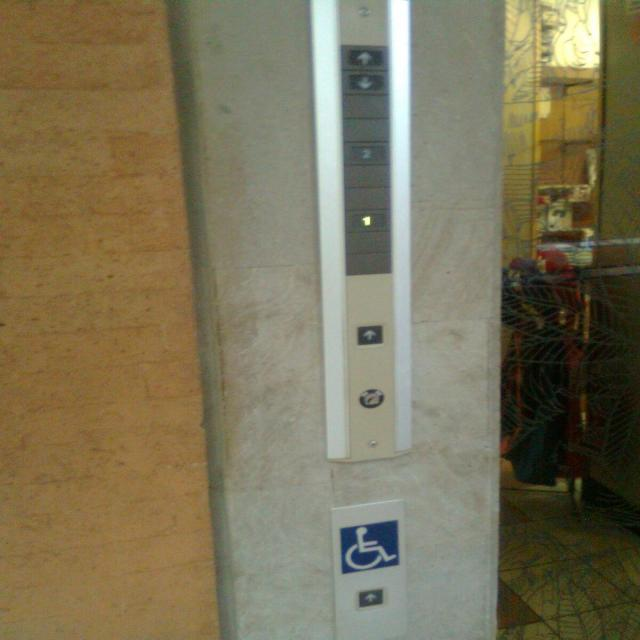1: (348, 212, 387, 230)
2: (346, 144, 388, 161)
CH: (339, 518, 401, 574)
down: (346, 72, 386, 90)
keyhole: (359, 388, 384, 409)
up: (355, 587, 387, 611), (346, 48, 386, 66), (355, 324, 384, 346)
